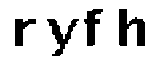f: (82, 6, 106, 47)
h: (116, 7, 151, 50)
r: (12, 16, 39, 49)
y: (47, 16, 80, 60)
